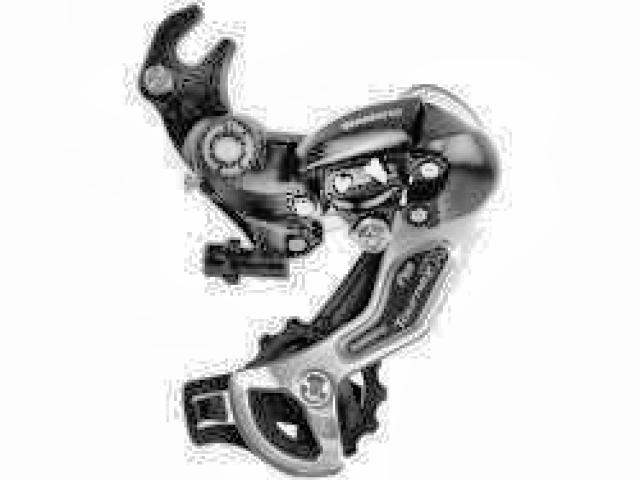rear_derailleur: (135, 5, 502, 477)
